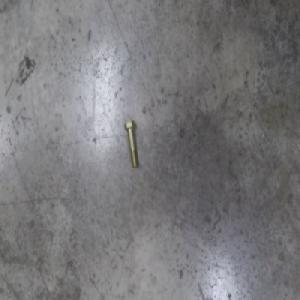Bolt: (123, 118, 138, 167)
